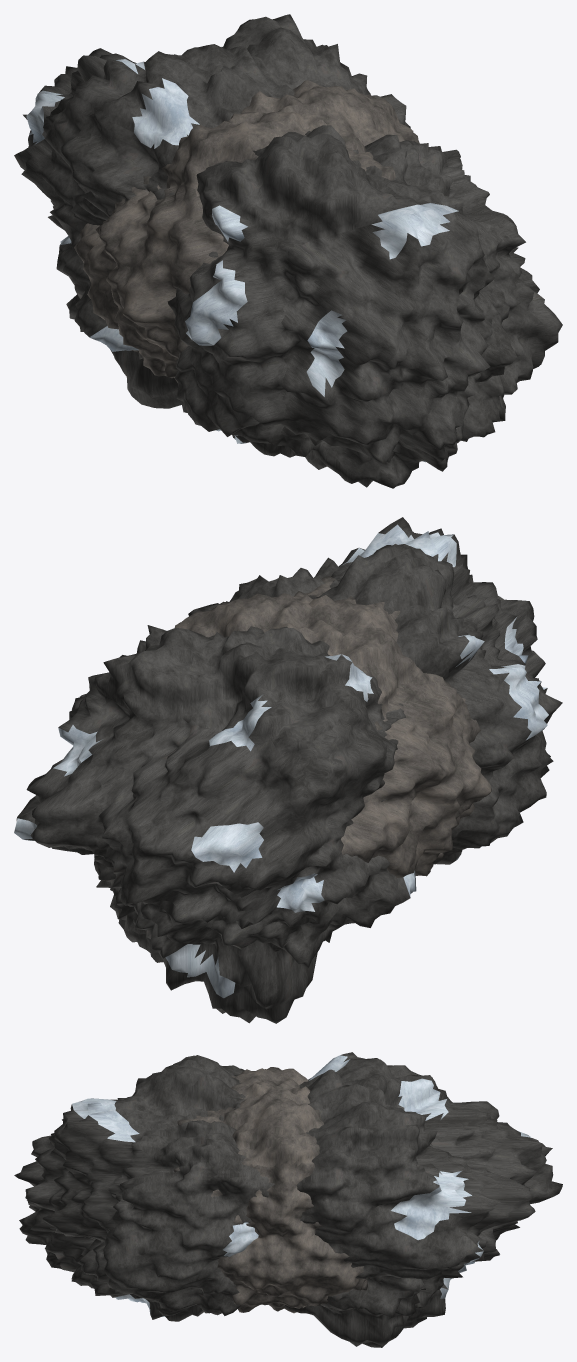
Rendered from sites.glb.
3 views of the same model, one above another, from view 1: azimuth 30°, elevation 25°; view 2: azimuth 150°, elevation 25°; view 3: azimuth 270°, elevation 25° (orthographic). The views are drawn at different scales.
Parts seen in each view (by area): view 1: comet_nucleus_CometRock, asteroid_hollow_Rock, comet_nucleus_Ice; view 2: comet_nucleus_CometRock, asteroid_hollow_Rock, comet_nucleus_Ice; view 3: comet_nucleus_CometRock, asteroid_hollow_Rock, comet_nucleus_Ice.
Part boxes in pixels (left/top/right/bottom): comet_nucleus_CometRock: left=14, top=14, right=562, bottom=488; asteroid_hollow_Rock: left=74, top=80, right=420, bottom=382; comet_nucleus_Ice: left=26, top=59, right=458, bottom=462; comet_nucleus_CometRock: left=16, top=517, right=562, bottom=1023; asteroid_hollow_Rock: left=174, top=576, right=491, bottom=877; comet_nucleus_Ice: left=14, top=524, right=548, bottom=998; comet_nucleus_CometRock: left=14, top=1052, right=562, bottom=1347; asteroid_hollow_Rock: left=173, top=1067, right=367, bottom=1313; comet_nucleus_Ice: left=72, top=1055, right=531, bottom=1316.
Bounding box in the file's own units: 255 × 256 × 482.
Materials: 19 (9 with a texture image).
